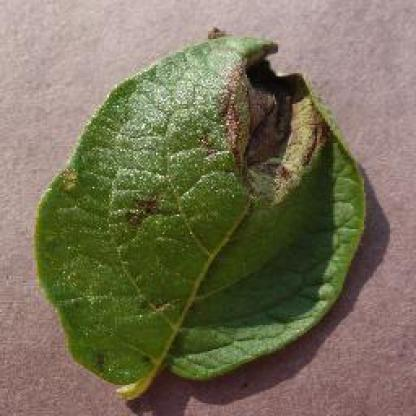bad leaf: (22, 14, 379, 403)
